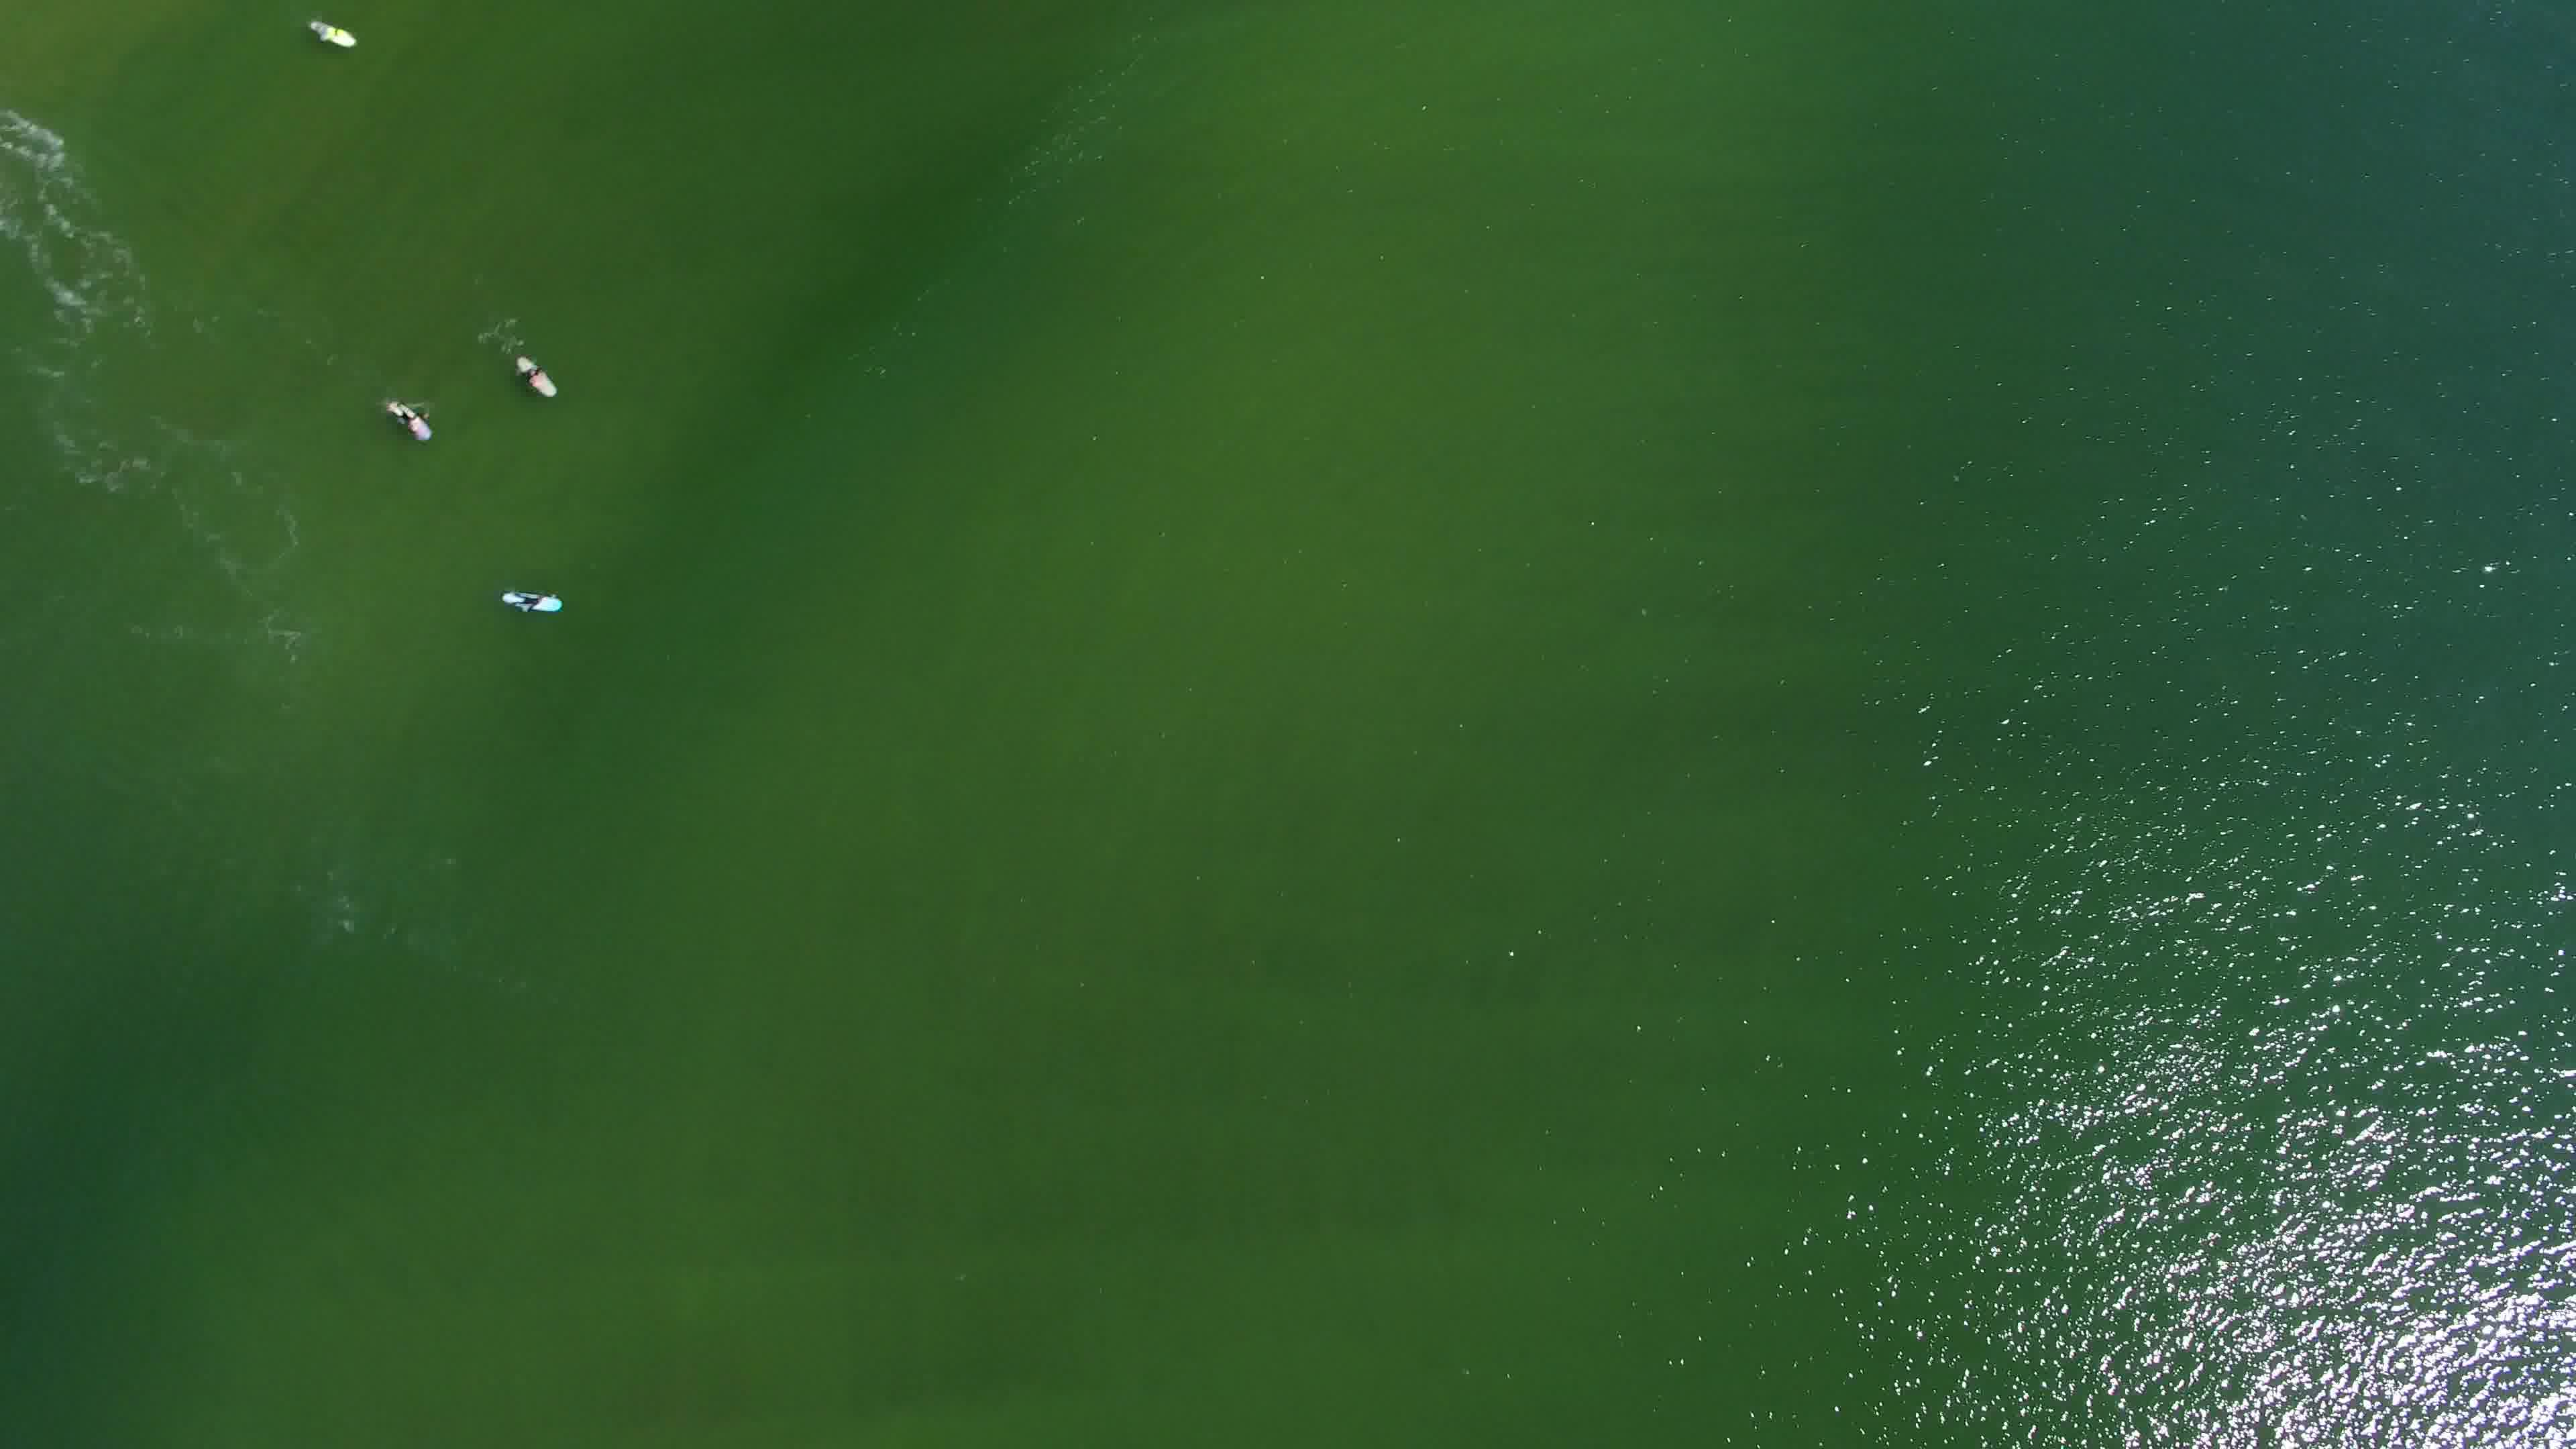surfer: (373, 389, 442, 455), (508, 347, 566, 405), (494, 580, 577, 619), (295, 16, 370, 53)
